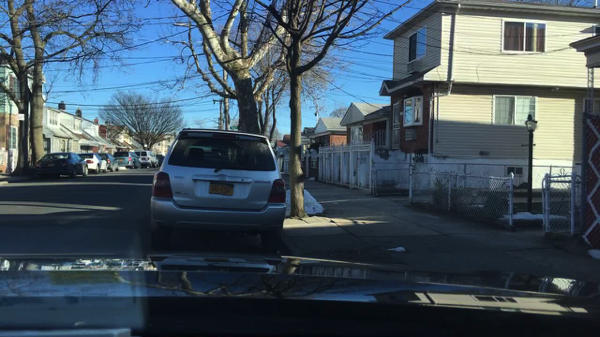car: (149, 129, 286, 252), (32, 151, 88, 178), (114, 152, 140, 169), (80, 152, 101, 173), (136, 150, 158, 168), (100, 150, 118, 170), (156, 154, 165, 166)
traffic sign: (227, 125, 237, 131)
